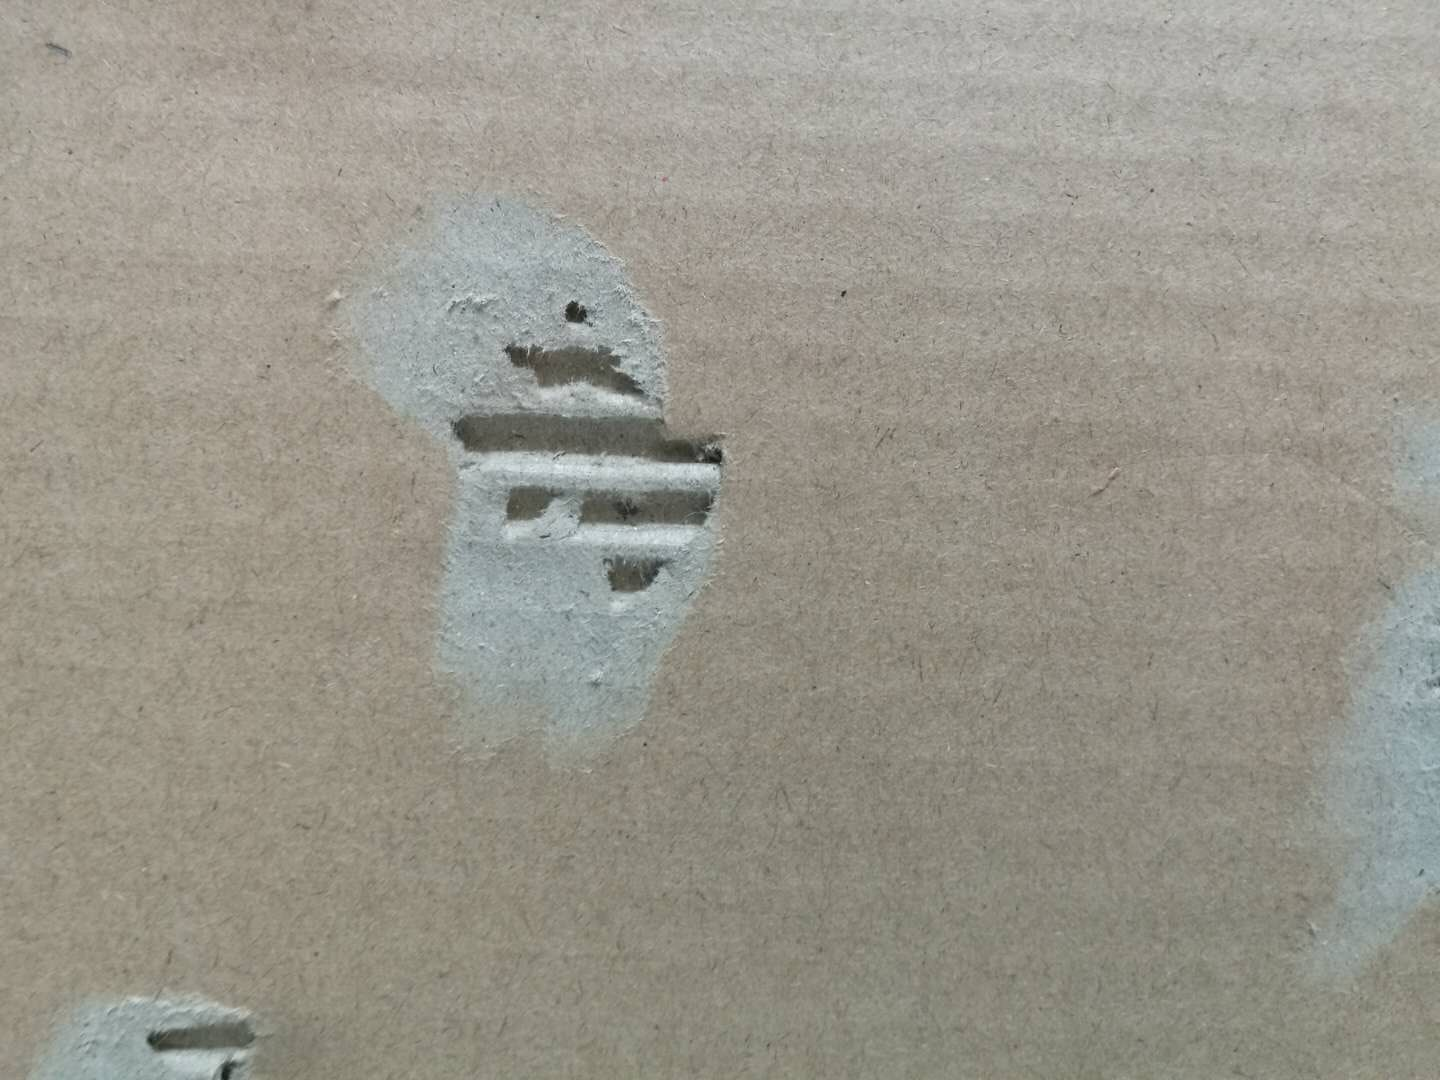defect: (306, 170, 771, 826), (1271, 366, 1440, 1012), (19, 974, 295, 1080)
